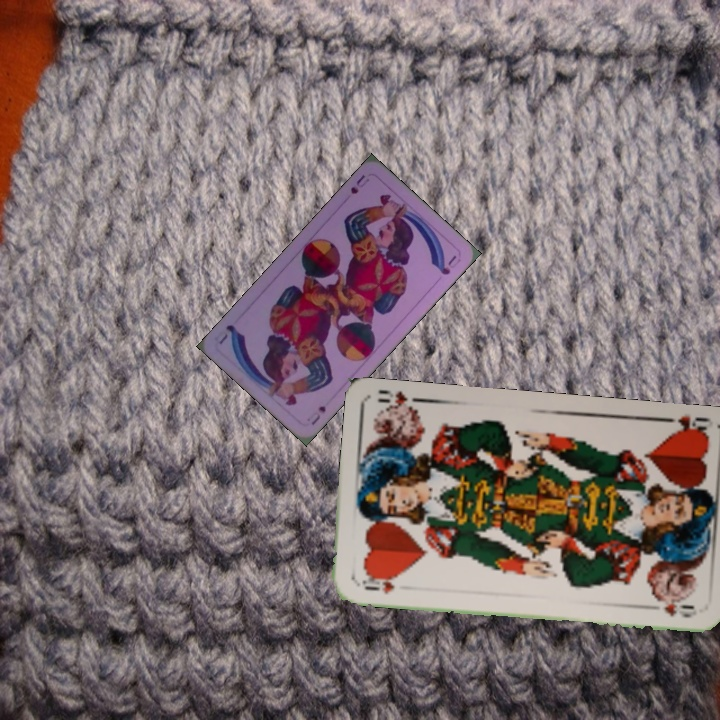HO: (659, 411, 716, 440), (354, 571, 400, 597)
SU: (346, 170, 372, 197), (307, 402, 329, 428)
